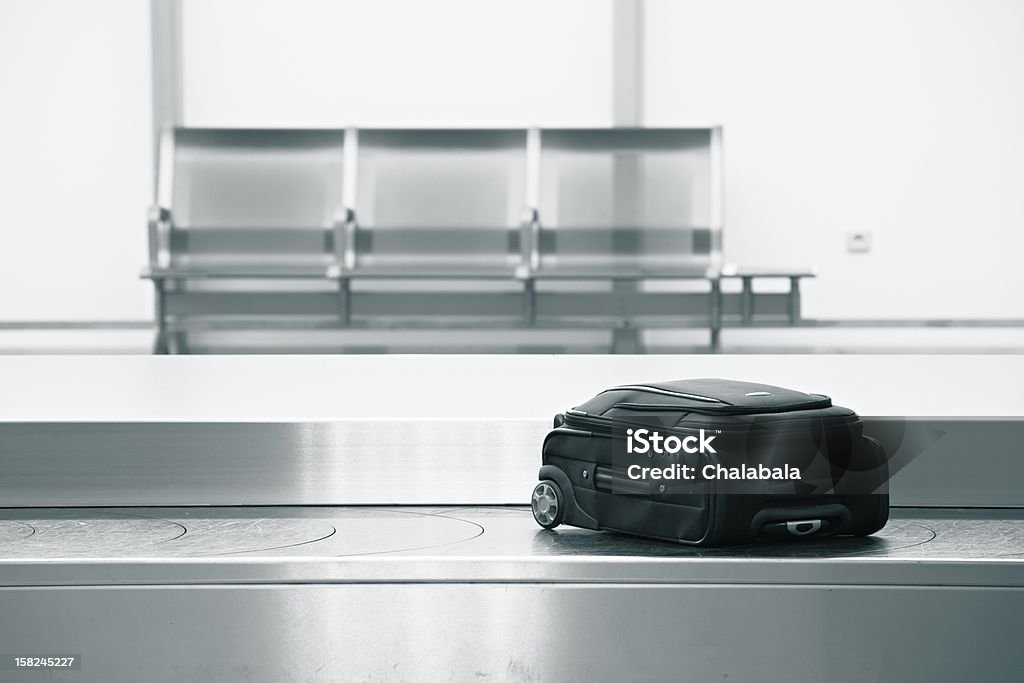baggage: (524, 378, 906, 568)
